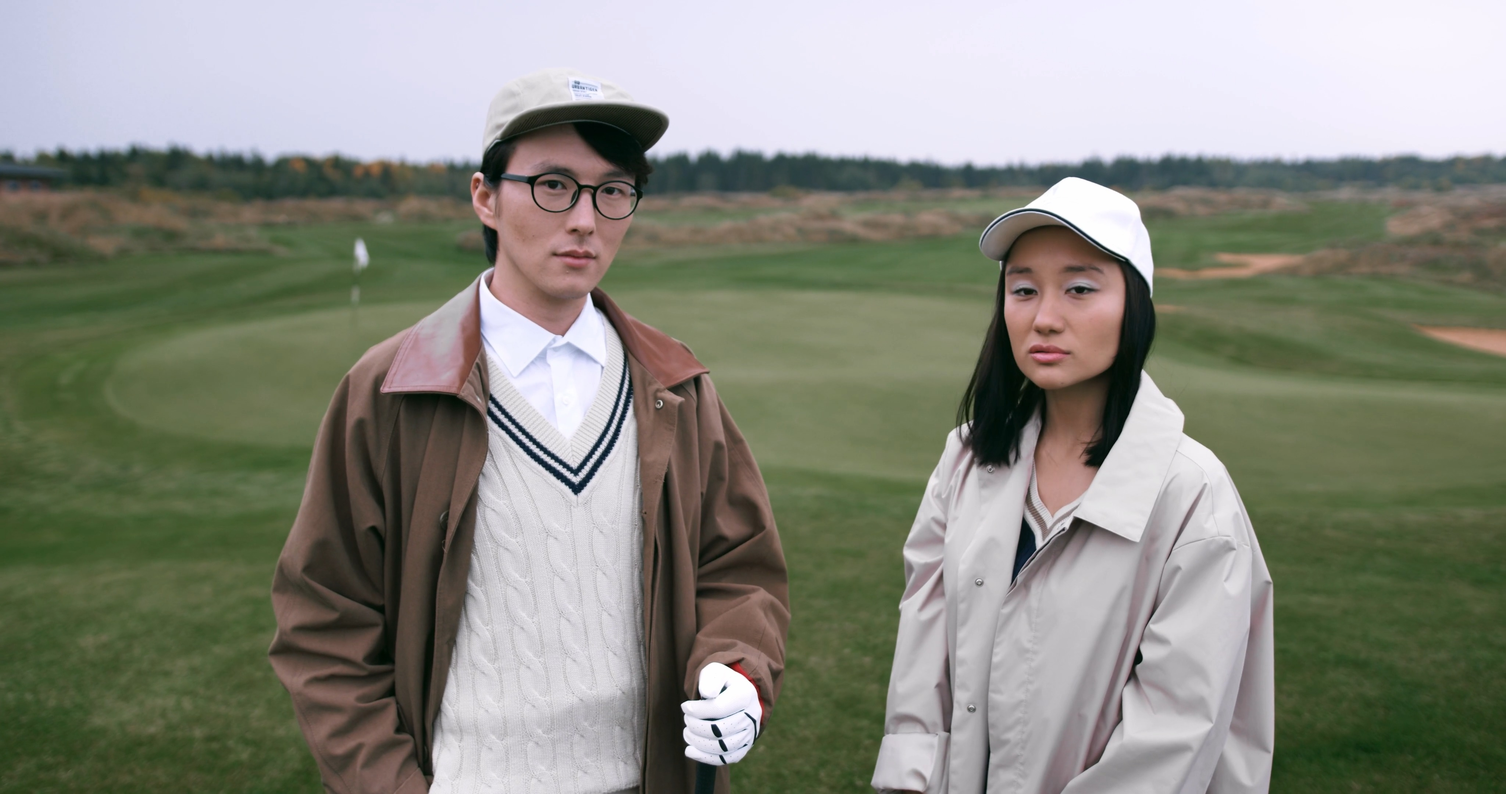gloves: (665, 645, 767, 781)
